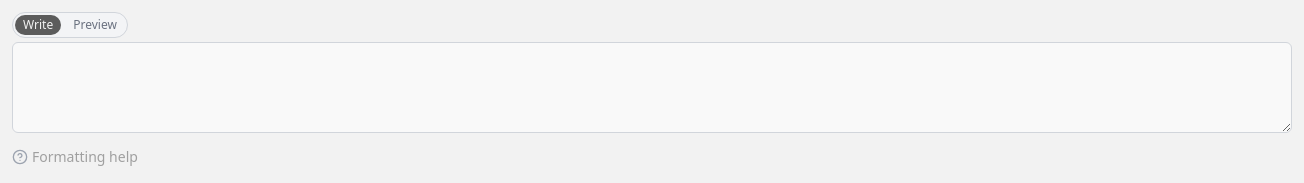
it: BaseMarkdownField › shows the empty message when previewing a blank field
Click the button with class "field-tab" showing "Preview". click: (95, 25)
box: x1=65 y1=15 x2=125 y2=35
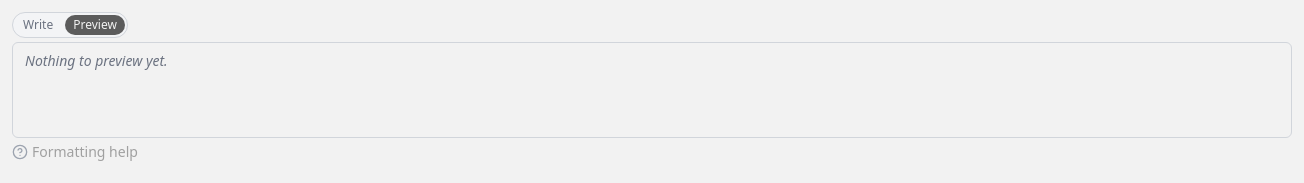
Expected: the text "Nothing to preview yet." is shown, x1=25 y1=51 x2=168 y2=70
